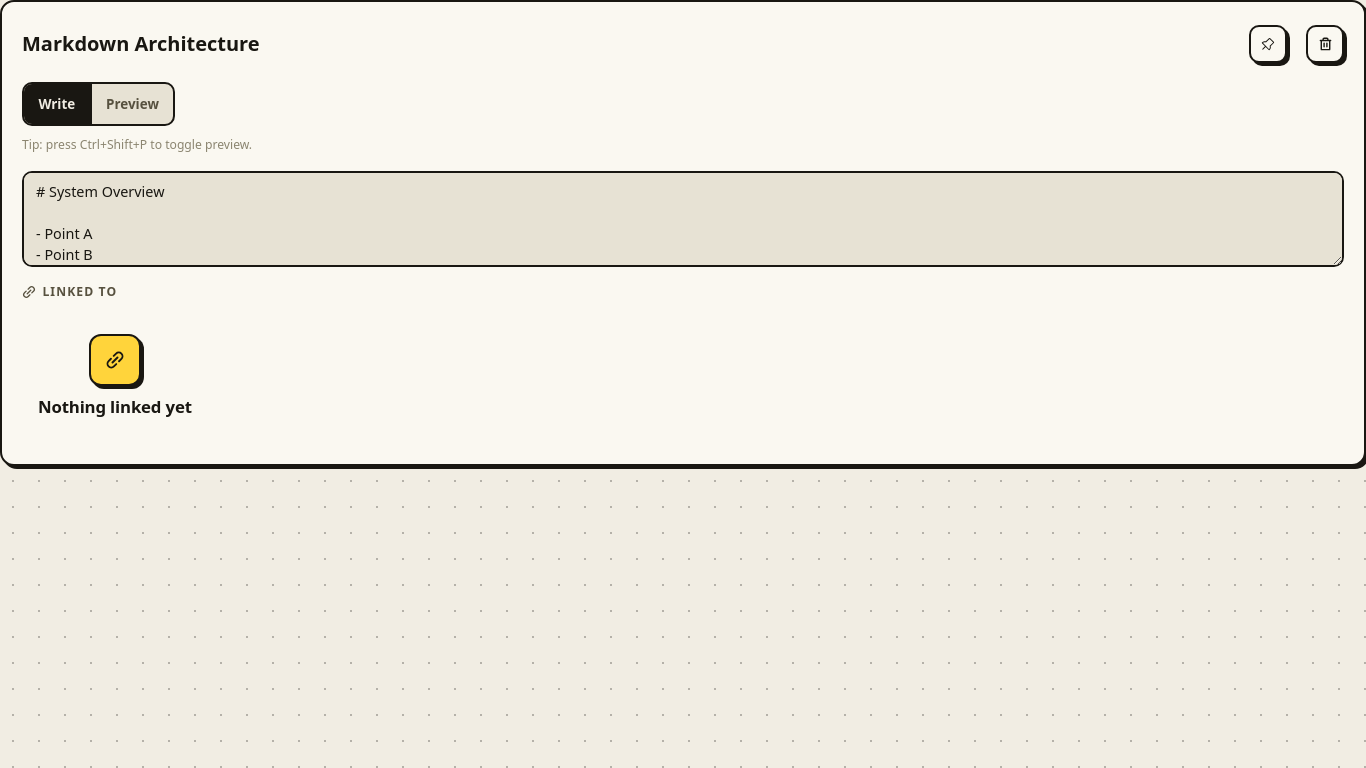
Throughline Inkline E2E Test Suite › Tier 1: Feature Coverage › Notes View › T1.22: opens markdown editor and renders markdown preview correctly
This screenshot has width=1366, height=768.
Step 1. Click the button "Preview" → (131, 104), box [90, 84, 173, 124]
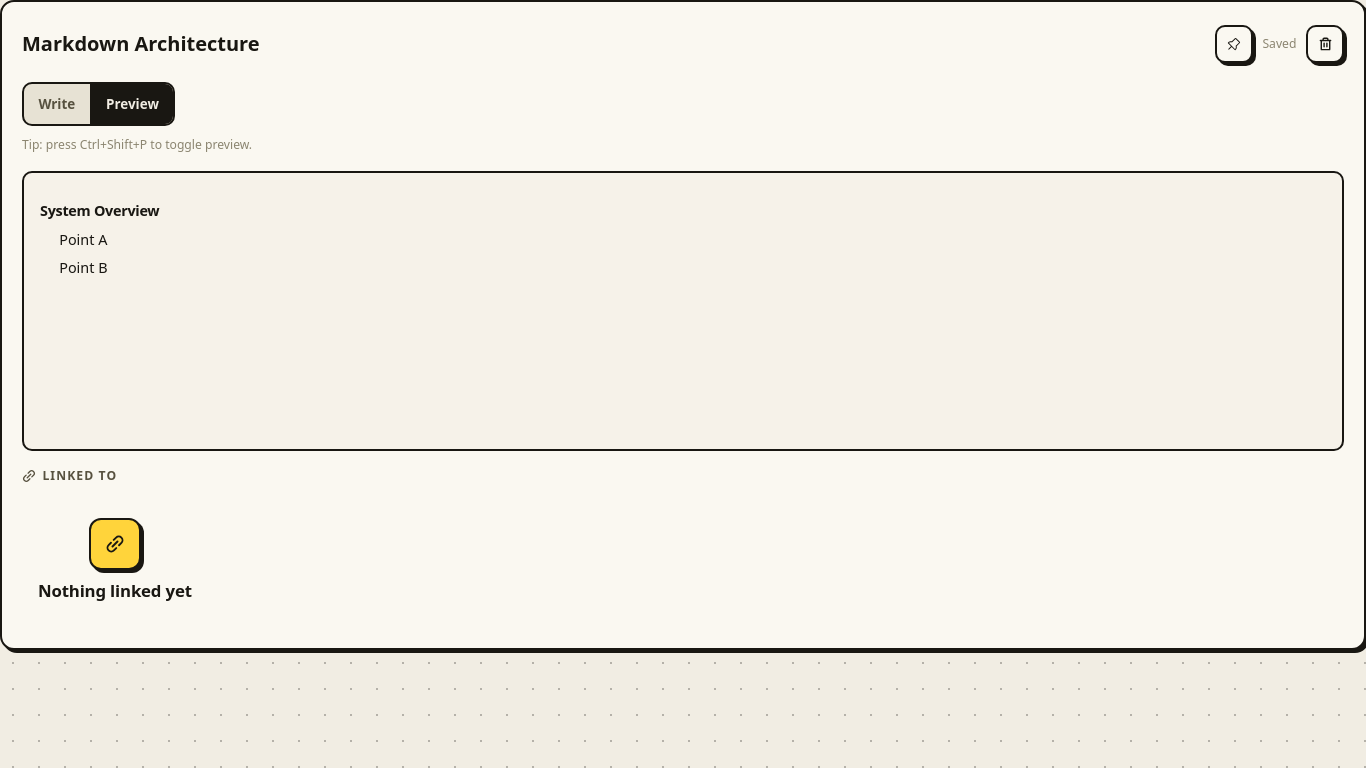
Expected: the heading "System Overview" is shown, [40, 201, 159, 220]
Expected: the list item "Point A" is shown, [59, 230, 107, 250]
